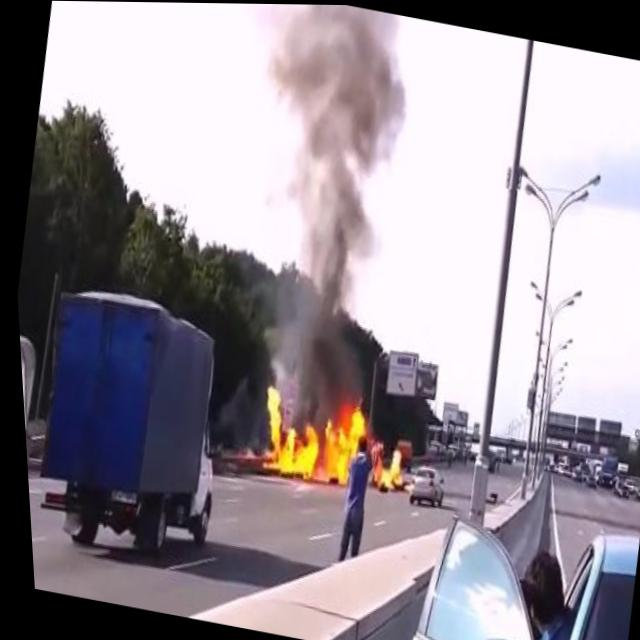fire: (241, 380, 368, 494), (370, 436, 408, 491)
